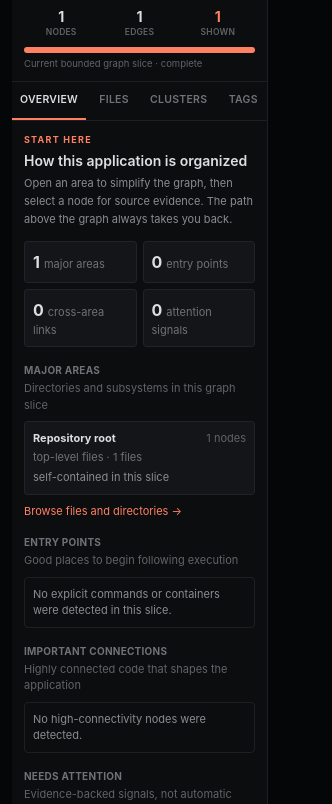
Test: Sidebar › opens with an architecture explanation and keeps the file navigator one step away
Expected: the heading "How this application is organized" is shown, [24,150,255,171]
Expected: the heading "Major areas" is shown, [24,364,100,376]
Click the button "Browse files and directories →" at (103, 511), box [24,503,182,519]
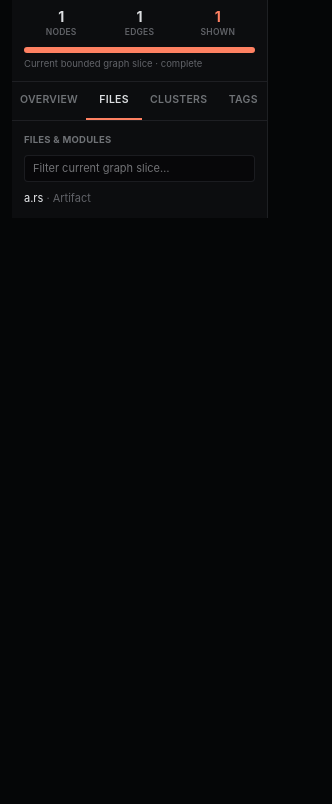
Expected: the button "a.rs · Artifact" is shown, [24,190,255,206]
